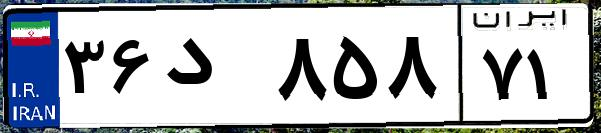1: (525, 38, 570, 115)
3: (57, 26, 110, 100)
5: (330, 28, 385, 110)
6: (110, 28, 158, 98)
7: (475, 38, 525, 113)
8: (270, 28, 330, 110), (385, 28, 445, 110)
د: (158, 20, 270, 120)
